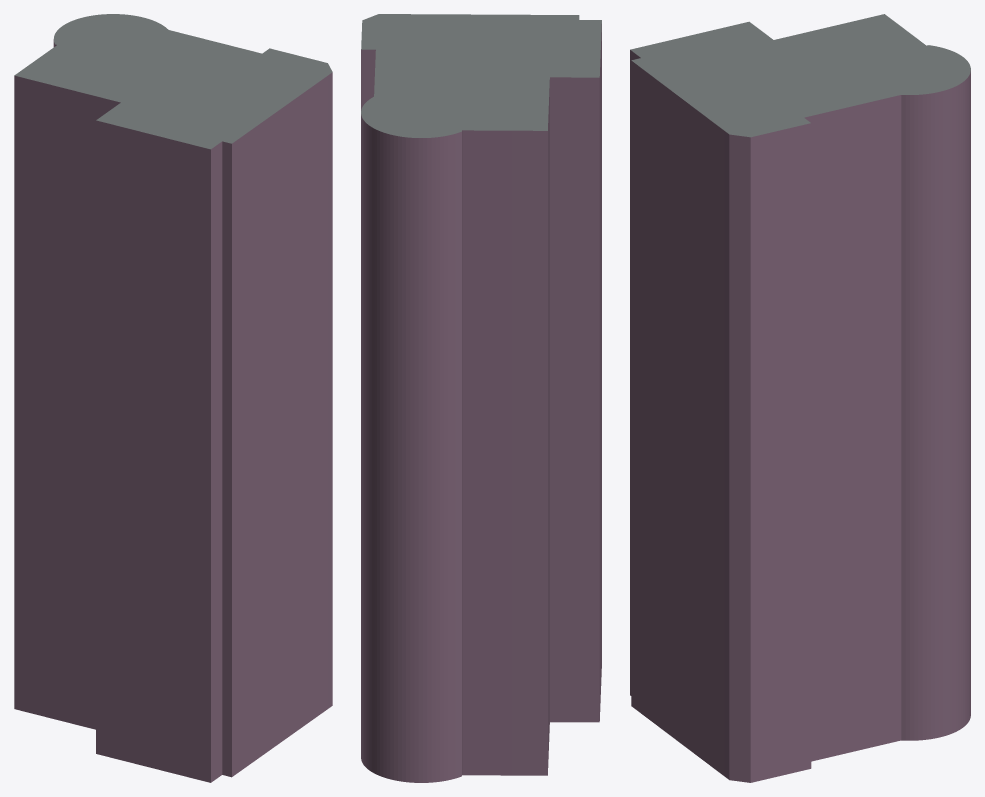
The model's file is nyc-1024686-0.glb.
3 views of the same model, side by side, from view 1: azimuth 30°, elevation 25°; view 2: azimuth 150°, elevation 25°; view 3: azimuth 270°, elevation 25° (orthographic).
Parts seen in each view (by area): view 1: nyc-1024686-0; view 2: nyc-1024686-0; view 3: nyc-1024686-0.
Part boxes in pixels (bbox=[...]): nyc-1024686-0: bbox=[14, 14, 332, 782]; nyc-1024686-0: bbox=[361, 14, 601, 782]; nyc-1024686-0: bbox=[630, 14, 970, 782].
Size of the model in its own units: 61 by 149 by 71.24.
